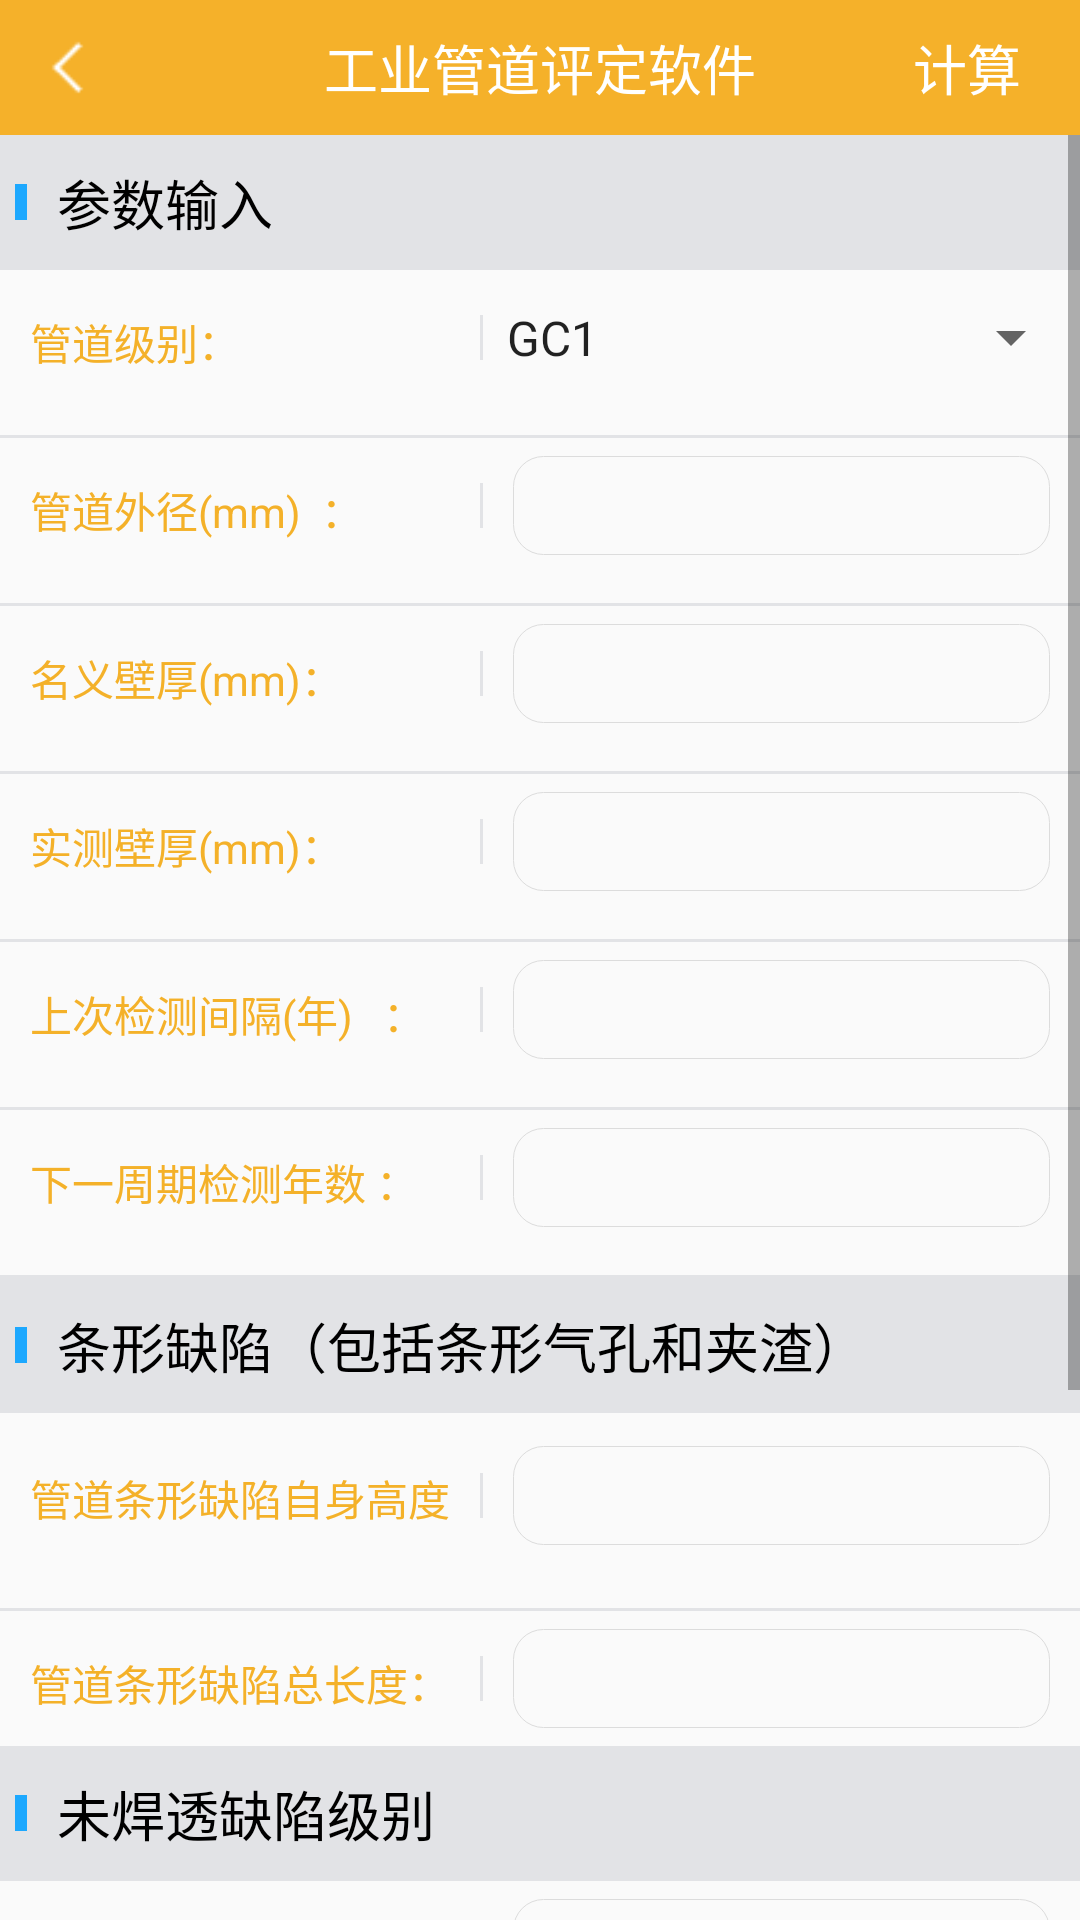

Point at icon controls on the screen. Image size 1080×1920, points as (x,y).
back: (67,67)
